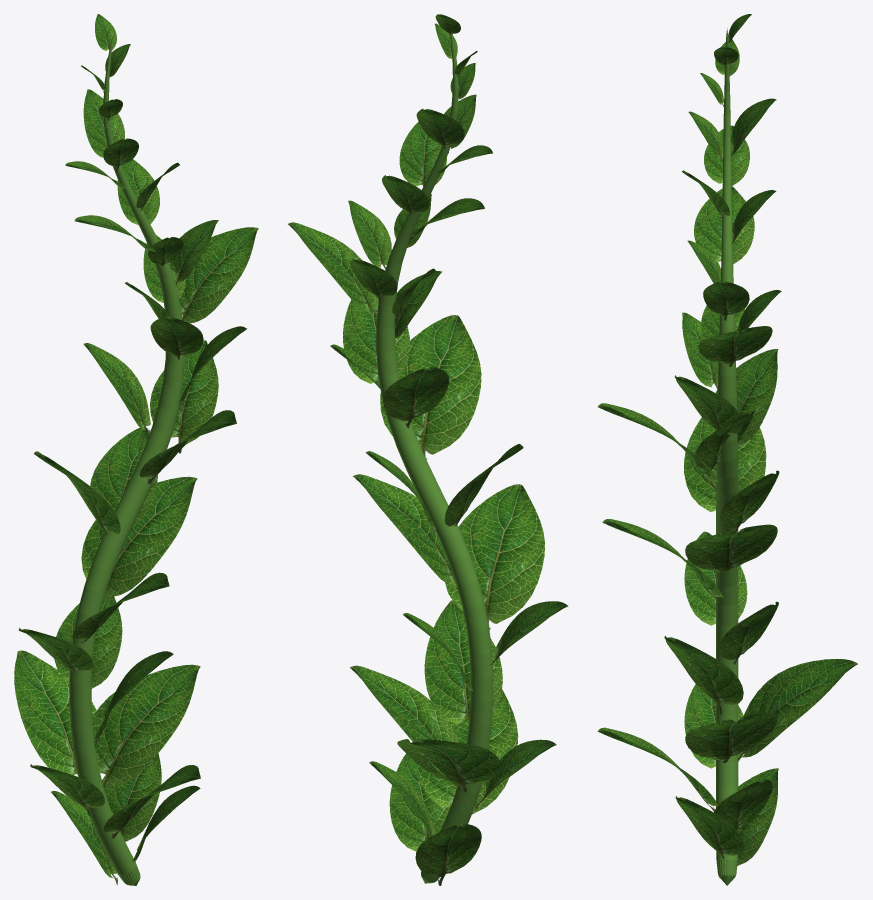
Rendered from enredadera.glb.
3 views of the same model, side by side, from view 1: azimuth 30°, elevation 25°; view 2: azimuth 150°, elevation 25°; view 3: azimuth 270°, elevation 25° (orthographic). The views are drawn at different scales.
Parts seen in each view (by area): view 1: Plane.031; view 2: Plane.031; view 3: Plane.031.
Boxes of the visible parts, x1,y1,x2,y2 form: Plane.031: (14,14,258,885); Plane.031: (288,14,568,885); Plane.031: (597,14,857,885).
Size of the model in its own units: 17.83 by 57.4 by 15.81.
35 materials, 34 textured.
